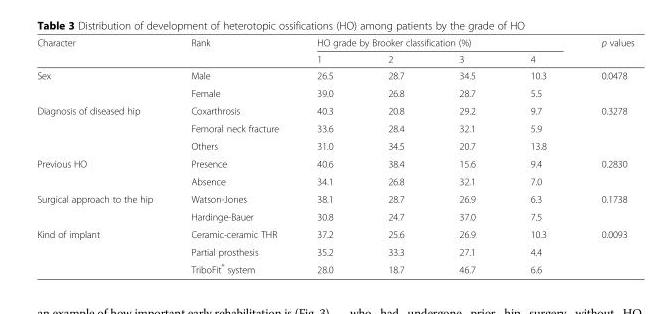table: (36, 36, 633, 274)
table column: (36, 36, 171, 274), (171, 36, 297, 274), (359, 36, 431, 274), (431, 36, 502, 274), (502, 36, 573, 274), (297, 36, 359, 274), (573, 36, 633, 274)
table column header: (36, 36, 633, 66)
table row: (36, 66, 633, 84), (36, 101, 633, 119), (36, 136, 633, 154), (36, 154, 633, 172), (36, 189, 633, 207), (36, 207, 633, 225), (36, 84, 633, 101), (36, 119, 633, 136), (36, 172, 633, 189), (36, 225, 633, 242), (36, 242, 633, 259), (36, 50, 633, 66), (36, 259, 633, 274), (36, 36, 633, 50)
table spanning cell: (36, 101, 171, 154), (36, 225, 171, 274), (36, 189, 171, 225), (36, 66, 171, 101), (36, 154, 171, 189), (36, 36, 171, 66), (297, 36, 573, 50), (171, 36, 297, 66), (573, 101, 633, 154), (573, 225, 633, 274), (573, 189, 633, 225), (573, 66, 633, 101), (573, 154, 633, 189), (573, 36, 633, 66)
